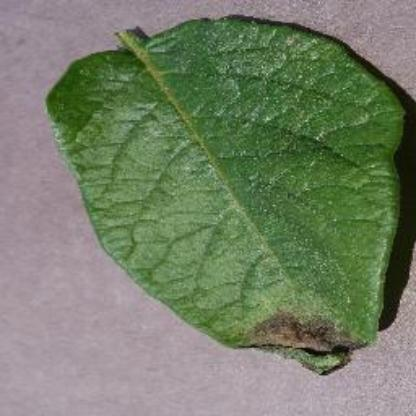Late-Blight: (15, 13, 410, 398)
